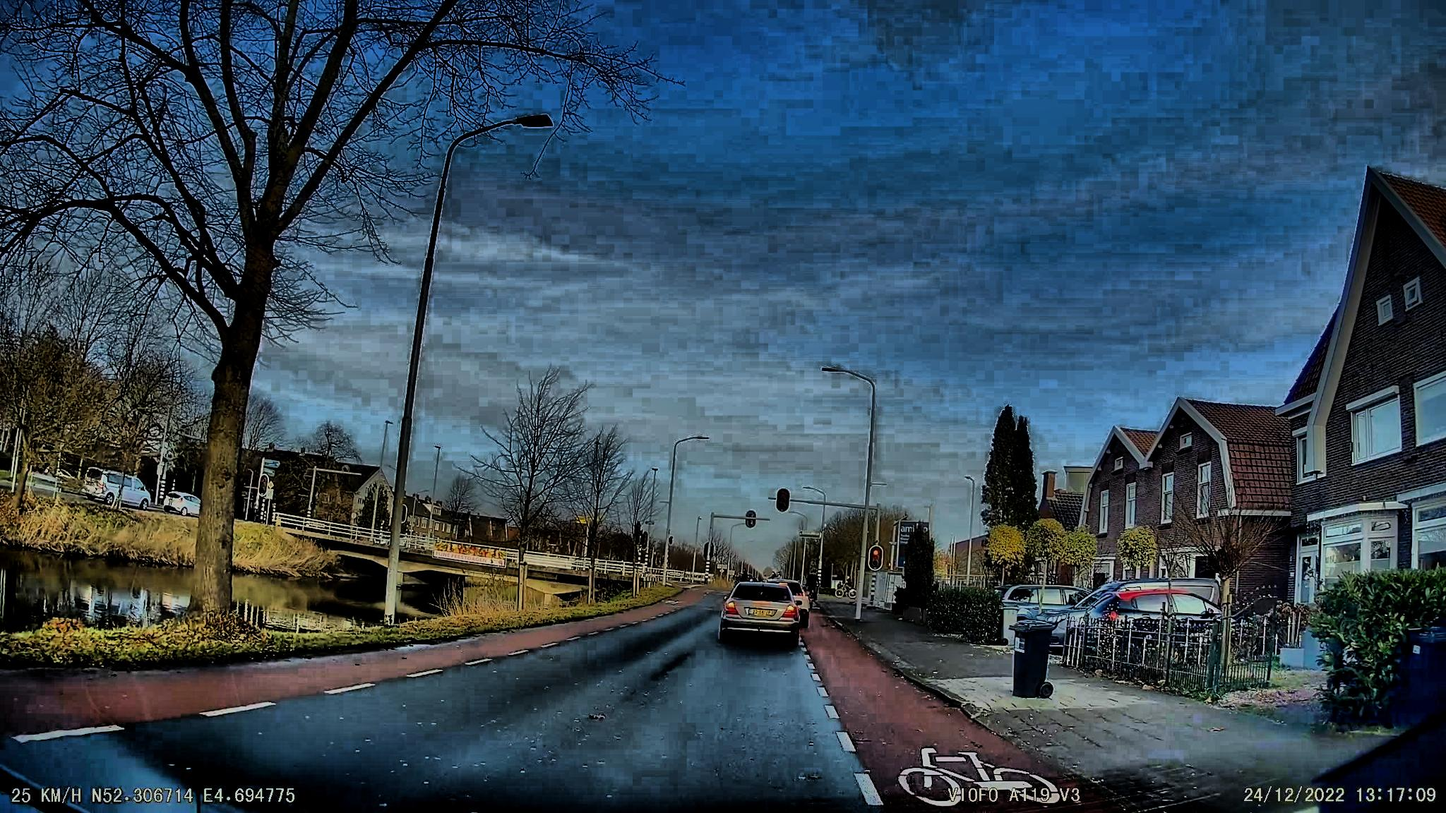Roads: (0, 592, 1126, 813)
